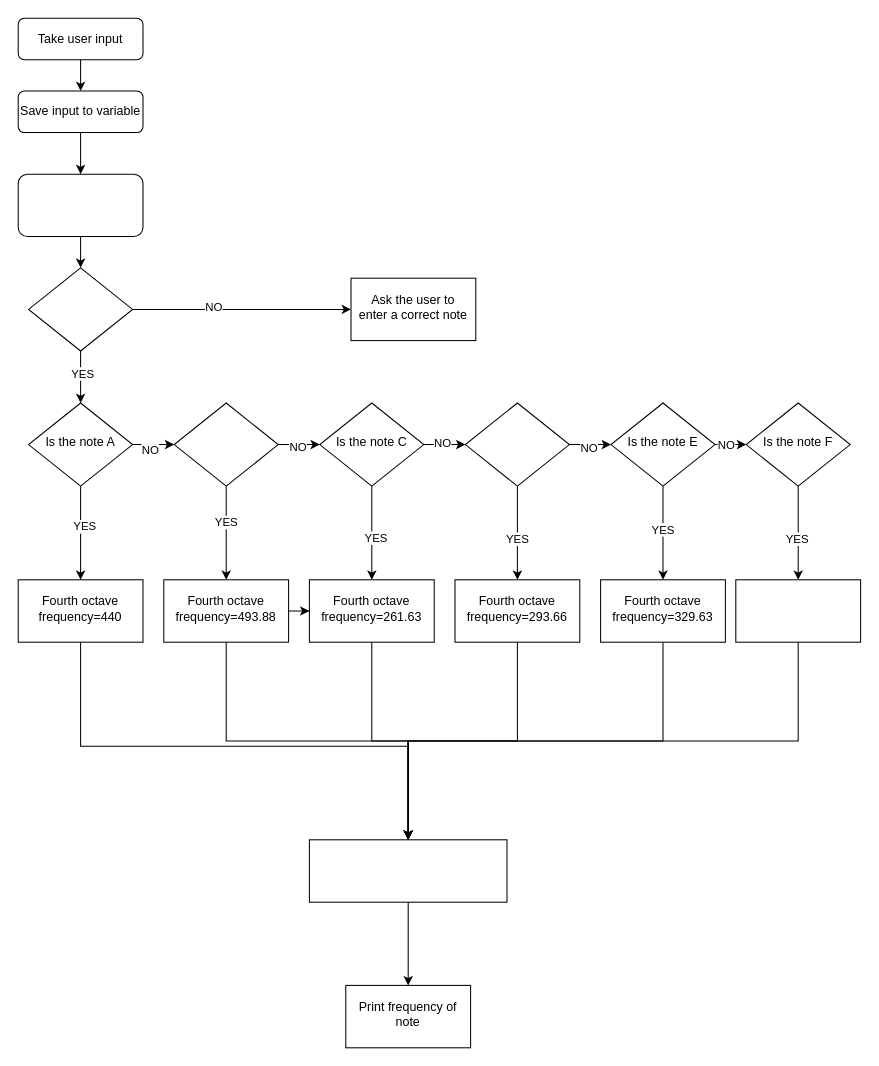
Image size: 879x1066. Some labels were removed from this diagram. Here are the shapes that lost their labels. From the top down, the centre of each, then its label:
point (80, 205): Split input in note and octave
point (80, 309): Is the note in A,B,C,D,E,F,G
point (225, 444): Is the note B
point (516, 444): Is the note D
point (798, 610): Fourth octave frequency=349.23
point (407, 870): frequency of note=frequency*2^(octave-4)
